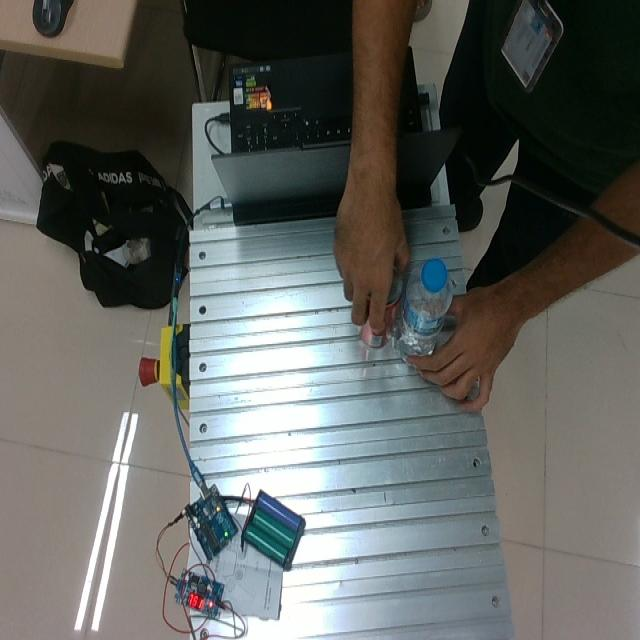coca: (358, 268, 408, 349)
lavie: (394, 259, 453, 361)
